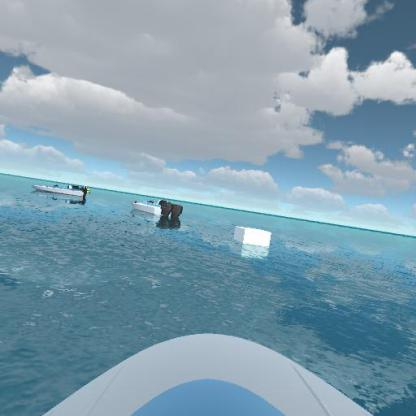usv1: (128, 189, 190, 229), (33, 176, 92, 205)
usv2: (76, 177, 94, 194)
